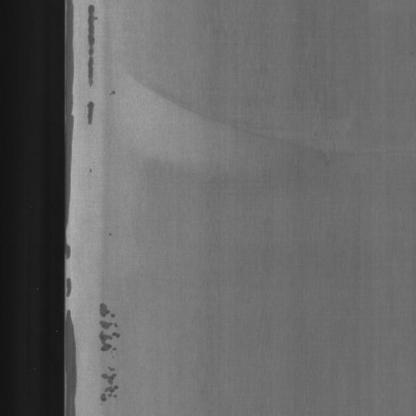oil_spot: (64, 4, 78, 416), (96, 286, 124, 404), (84, 7, 110, 120)
